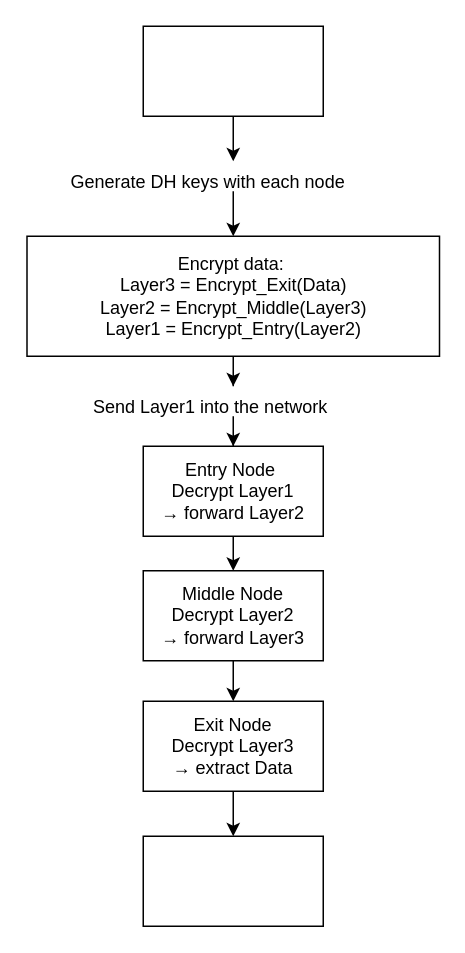
Some shapes in this 465 by 953 pixel diagram are drawn without their labels. The centre of each missing label's shape, as x and y in pixels:
"CLIENT (Sender)" goes at point 232,70.
"Server receives the data" goes at point 232,880.
